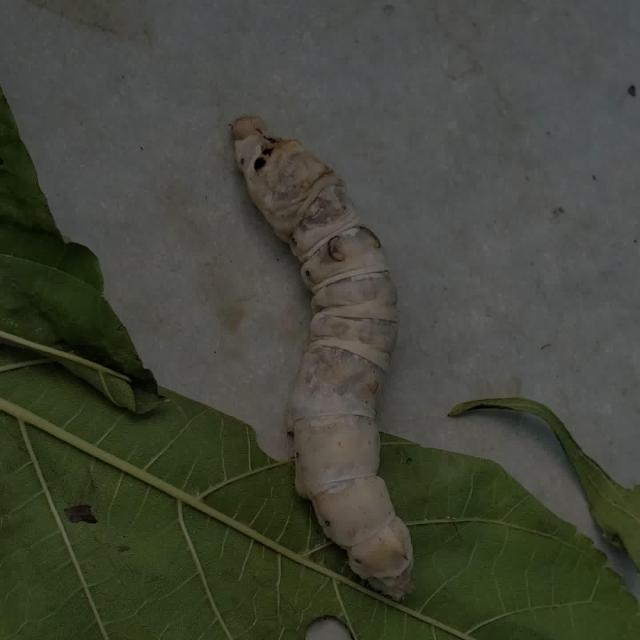Grasserie: (211, 103, 449, 602)
